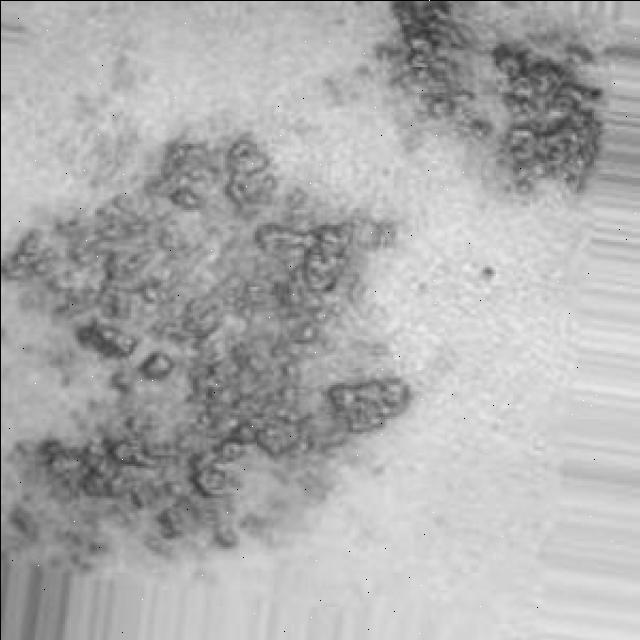Shingles: (4, 134, 410, 544), (380, 0, 605, 200)
